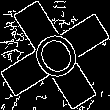O_SE: (23, 22, 87, 88)
